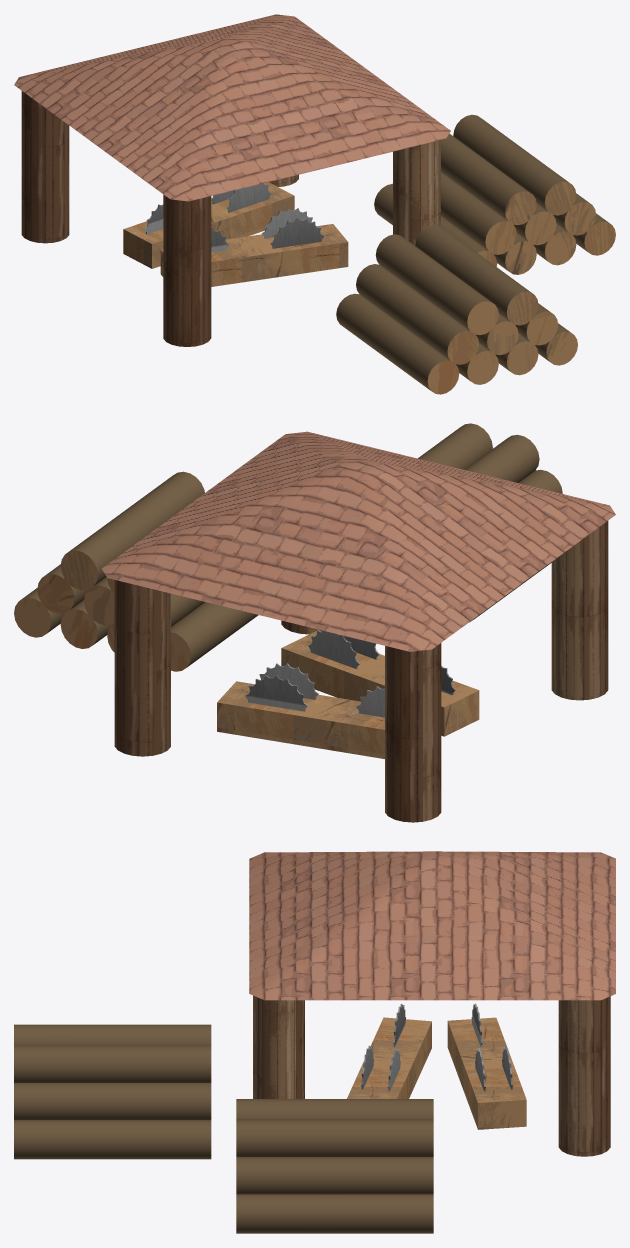
The model's file is LumberMill.FBX.
The picture shows the model from 3 angles, top to bottom: view 1: azimuth 30°, elevation 25°; view 2: azimuth 150°, elevation 25°; view 3: azimuth 270°, elevation 25°; orthographic projection. The views are drawn at different scales.
Parts seen in each view (by area): view 1: Pyramid001; view 2: Pyramid001; view 3: Pyramid001.
Part boxes in pixels (bbox=[...]): Pyramid001: bbox=[14, 14, 615, 394]; Pyramid001: bbox=[14, 423, 615, 822]; Pyramid001: bbox=[14, 851, 615, 1233].
Size of the model in its own units: 54.67 by 25.35 by 61.05.
1 material, 1 textured.
